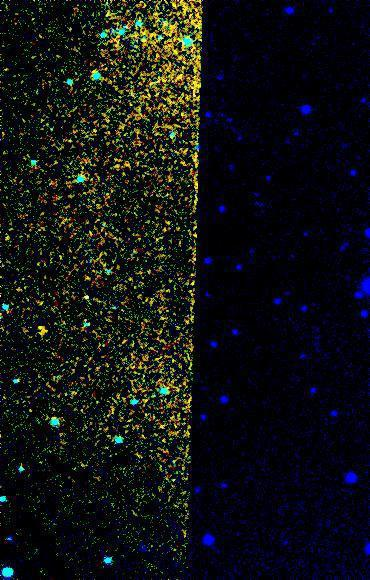star: (24, 313, 54, 343)
